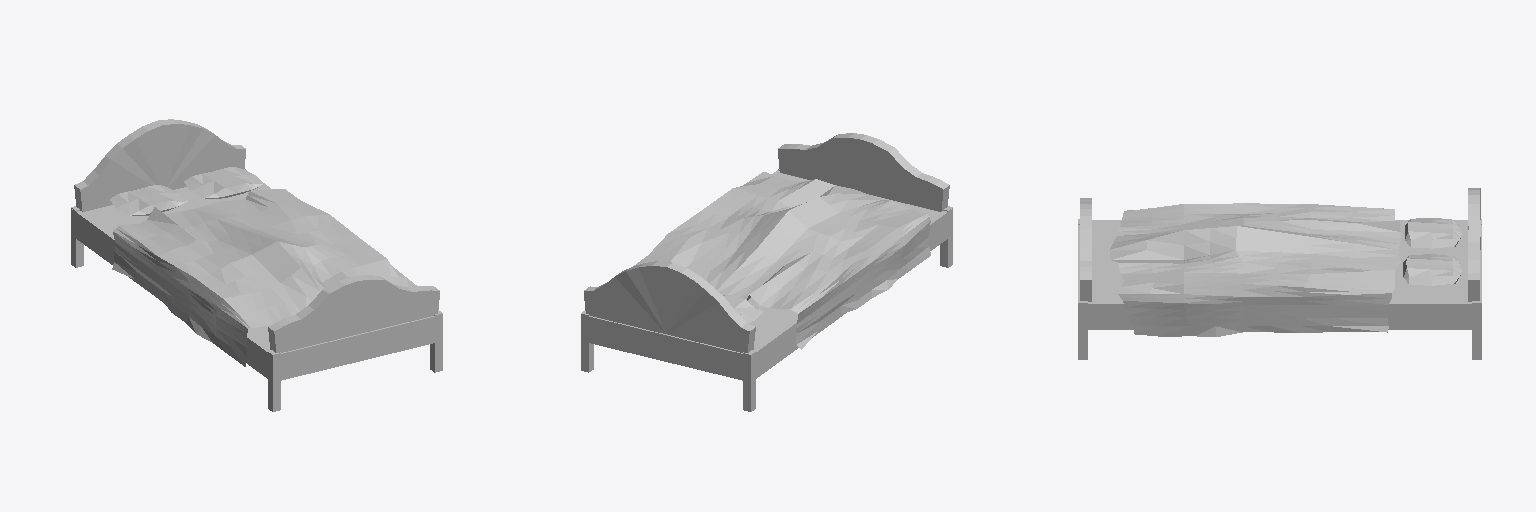
File: bed.obj
3 renders of one model, left to right at view 1: azimuth 30°, elevation 25°; view 2: azimuth 150°, elevation 25°; view 3: azimuth 270°, elevation 25°, orthographic.
Visible parts, largest first — view 1: Foot_Cylinder.001; view 2: Foot_Cylinder.001; view 3: Foot_Cylinder.001.
Boxes of the visible parts, <box> form: Foot_Cylinder.001: <box>71,119,442,411</box>; Foot_Cylinder.001: <box>581,133,952,411</box>; Foot_Cylinder.001: <box>1078,188,1481,359</box>.
Bounding box in the file's own units: 2.11 × 1.38 × 4.1.